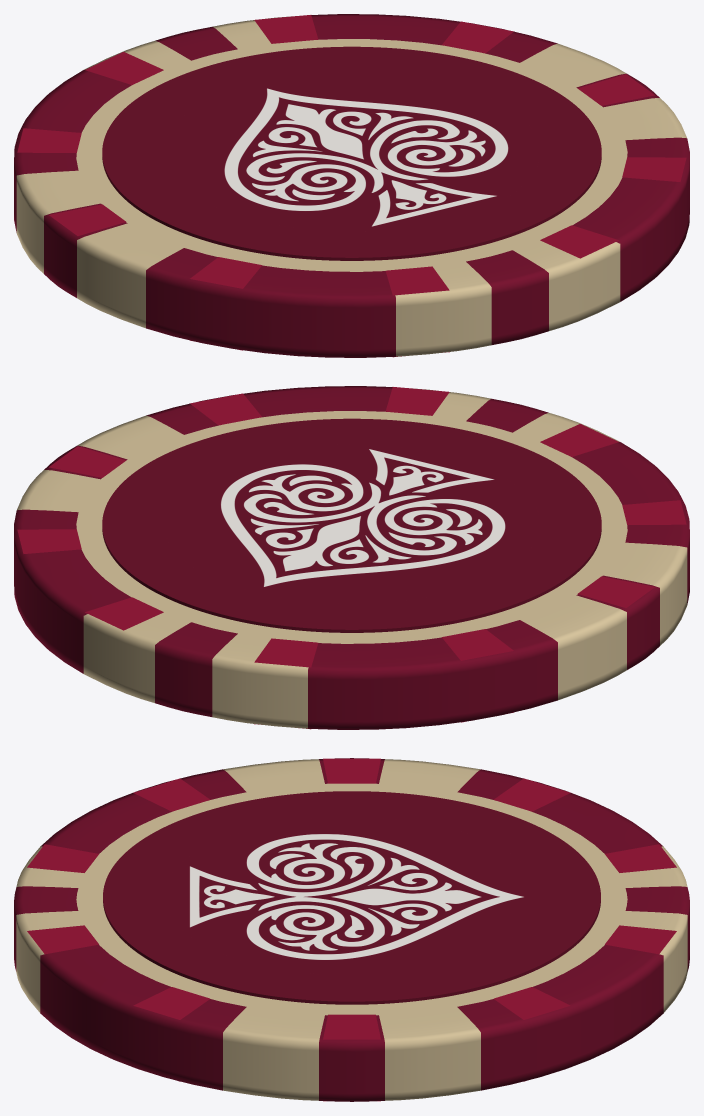
Rendered from magnum-chip-candidate.glb.
The picture shows the model from 3 angles, top to bottom: view 1: azimuth 30°, elevation 25°; view 2: azimuth 150°, elevation 25°; view 3: azimuth 270°, elevation 25°; orthographic projection.
Visible parts, largest first — view 1: frontFaceDisc, MAGNUM Chip Body (GLB), MAGNUM Chip Rim (GLB), frontSpadeDecal, frontRimInsert10, frontRimInsert04, frontRimInsert09, frontRimInsert06, frontRimInsert08, frontRimInsert03, frontRimInsert07, frontRimInsert01 (+2 smaller); view 2: frontFaceDisc, MAGNUM Chip Body (GLB), MAGNUM Chip Rim (GLB), frontSpadeDecal, frontRimInsert02, frontRimInsert03, frontRimInsert08, frontRimInsert04, frontRimInsert06, frontRimInsert05, frontRimInsert09, frontRimInsert01 (+2 smaller); view 3: frontFaceDisc, MAGNUM Chip Body (GLB), MAGNUM Chip Rim (GLB), frontSpadeDecal, frontRimInsert06, frontRimInsert01, frontRimInsert05, frontRimInsert07, frontRimInsert02, frontRimInsert03, frontRimInsert04, frontRimInsert08 (+2 smaller).
Part boxes in pixels (x1,y1,x2,y2): frontFaceDisc: (102, 46, 601, 260); MAGNUM Chip Body (GLB): (14, 14, 689, 357); MAGNUM Chip Rim (GLB): (16, 16, 686, 356); frontSpadeDecal: (224, 88, 508, 226); frontRimInsert10: (622, 157, 686, 181); frontRimInsert04: (85, 52, 163, 84); frontRimInsert09: (540, 225, 618, 258); frontRimInsert06: (49, 204, 125, 235); frontRimInsert08: (385, 266, 449, 295); frontRimInsert03: (254, 15, 318, 43); frontRimInsert07: (190, 257, 261, 288); frontRimInsert01: (578, 74, 654, 105); frontFaceDisc: (102, 418, 601, 632); MAGNUM Chip Body (GLB): (14, 386, 689, 729); MAGNUM Chip Rim (GLB): (17, 388, 687, 728); frontSpadeDecal: (221, 449, 505, 586); frontRimInsert02: (17, 529, 81, 553); frontRimInsert03: (85, 597, 163, 630); frontRimInsert08: (540, 424, 618, 456); frontRimInsert04: (254, 638, 318, 667); frontRimInsert06: (578, 576, 654, 607); frontRimInsert05: (442, 629, 513, 660); frontRimInsert09: (385, 387, 449, 415); frontRimInsert01: (49, 446, 125, 477); frontFaceDisc: (103, 791, 600, 1004); MAGNUM Chip Body (GLB): (14, 758, 689, 1101); MAGNUM Chip Rim (GLB): (16, 759, 687, 1100); frontSpadeDecal: (190, 834, 523, 959); frontRimInsert06: (323, 758, 380, 783); frontRimInsert01: (323, 1014, 380, 1039); frontRimInsert05: (493, 778, 570, 811); frontRimInsert07: (133, 778, 210, 811); frontRimInsert02: (494, 987, 570, 1019); frontRimInsert03: (605, 925, 676, 954); frontRimInsert04: (605, 844, 676, 872); frontRimInsert08: (27, 844, 98, 872).
Bounding box in the file's own units: 2 × 0.2202 × 2.
5 materials, 1 textured.
